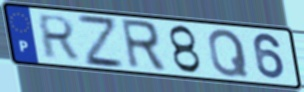6: (251, 32, 287, 81)
8: (167, 24, 203, 75)
Q: (207, 27, 252, 78)
R: (118, 17, 169, 74), (37, 13, 80, 61)
Z: (75, 12, 128, 70)
